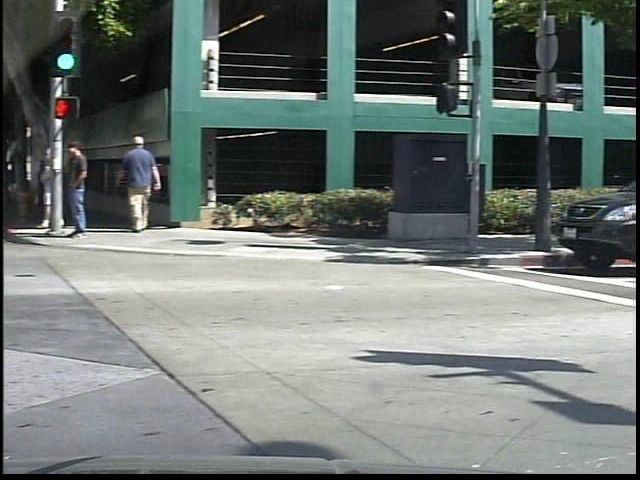person: (124, 134, 177, 235), (66, 134, 105, 245), (47, 143, 72, 232)
